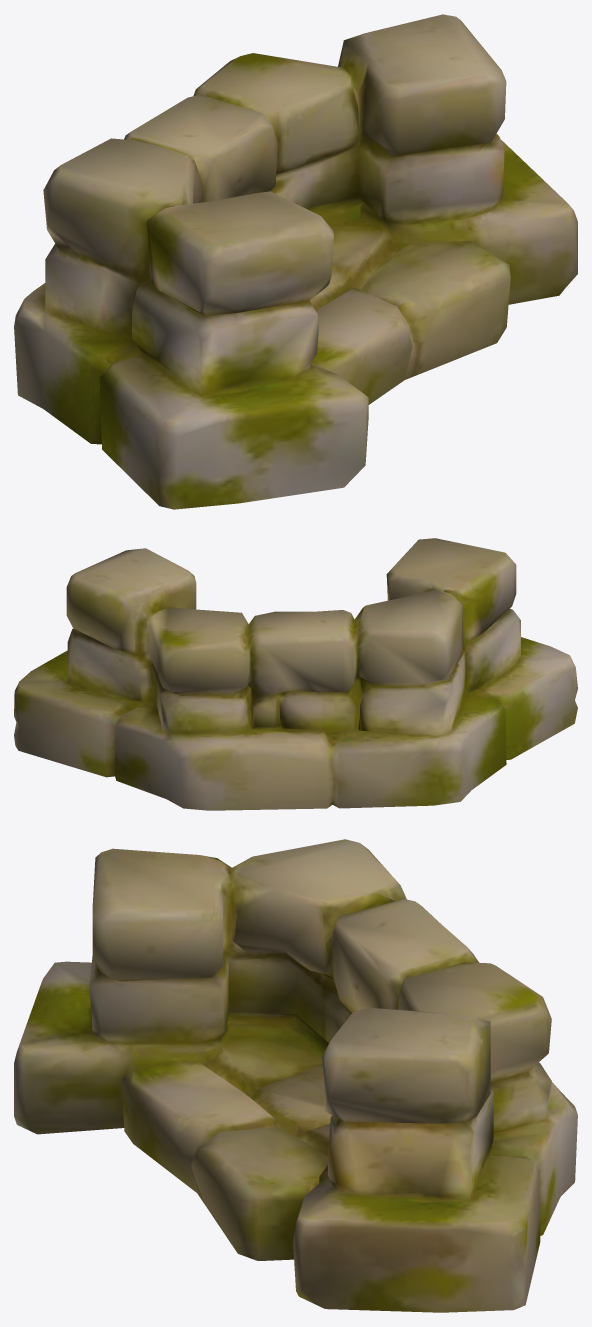
File: wyn_ruin_foundation_stones.glb
3 renders of one model, top to bottom at view 1: azimuth 30°, elevation 25°; view 2: azimuth 150°, elevation 25°; view 3: azimuth 270°, elevation 25°, orthographic. The views are drawn at different scales.
Parts seen in each view (by area): view 1: tripo_node_0115d7fd-b143-4b4c-b82b-ed62fa521704; view 2: tripo_node_0115d7fd-b143-4b4c-b82b-ed62fa521704; view 3: tripo_node_0115d7fd-b143-4b4c-b82b-ed62fa521704.
Boxes of the visible parts, x1,y1,x2,y2 form: tripo_node_0115d7fd-b143-4b4c-b82b-ed62fa521704: (14, 14, 577, 509); tripo_node_0115d7fd-b143-4b4c-b82b-ed62fa521704: (14, 538, 577, 810); tripo_node_0115d7fd-b143-4b4c-b82b-ed62fa521704: (14, 839, 577, 1312).
Size of the model in its own units: 1.49 by 0.5999 by 1.32.
1 material, 1 textured.
